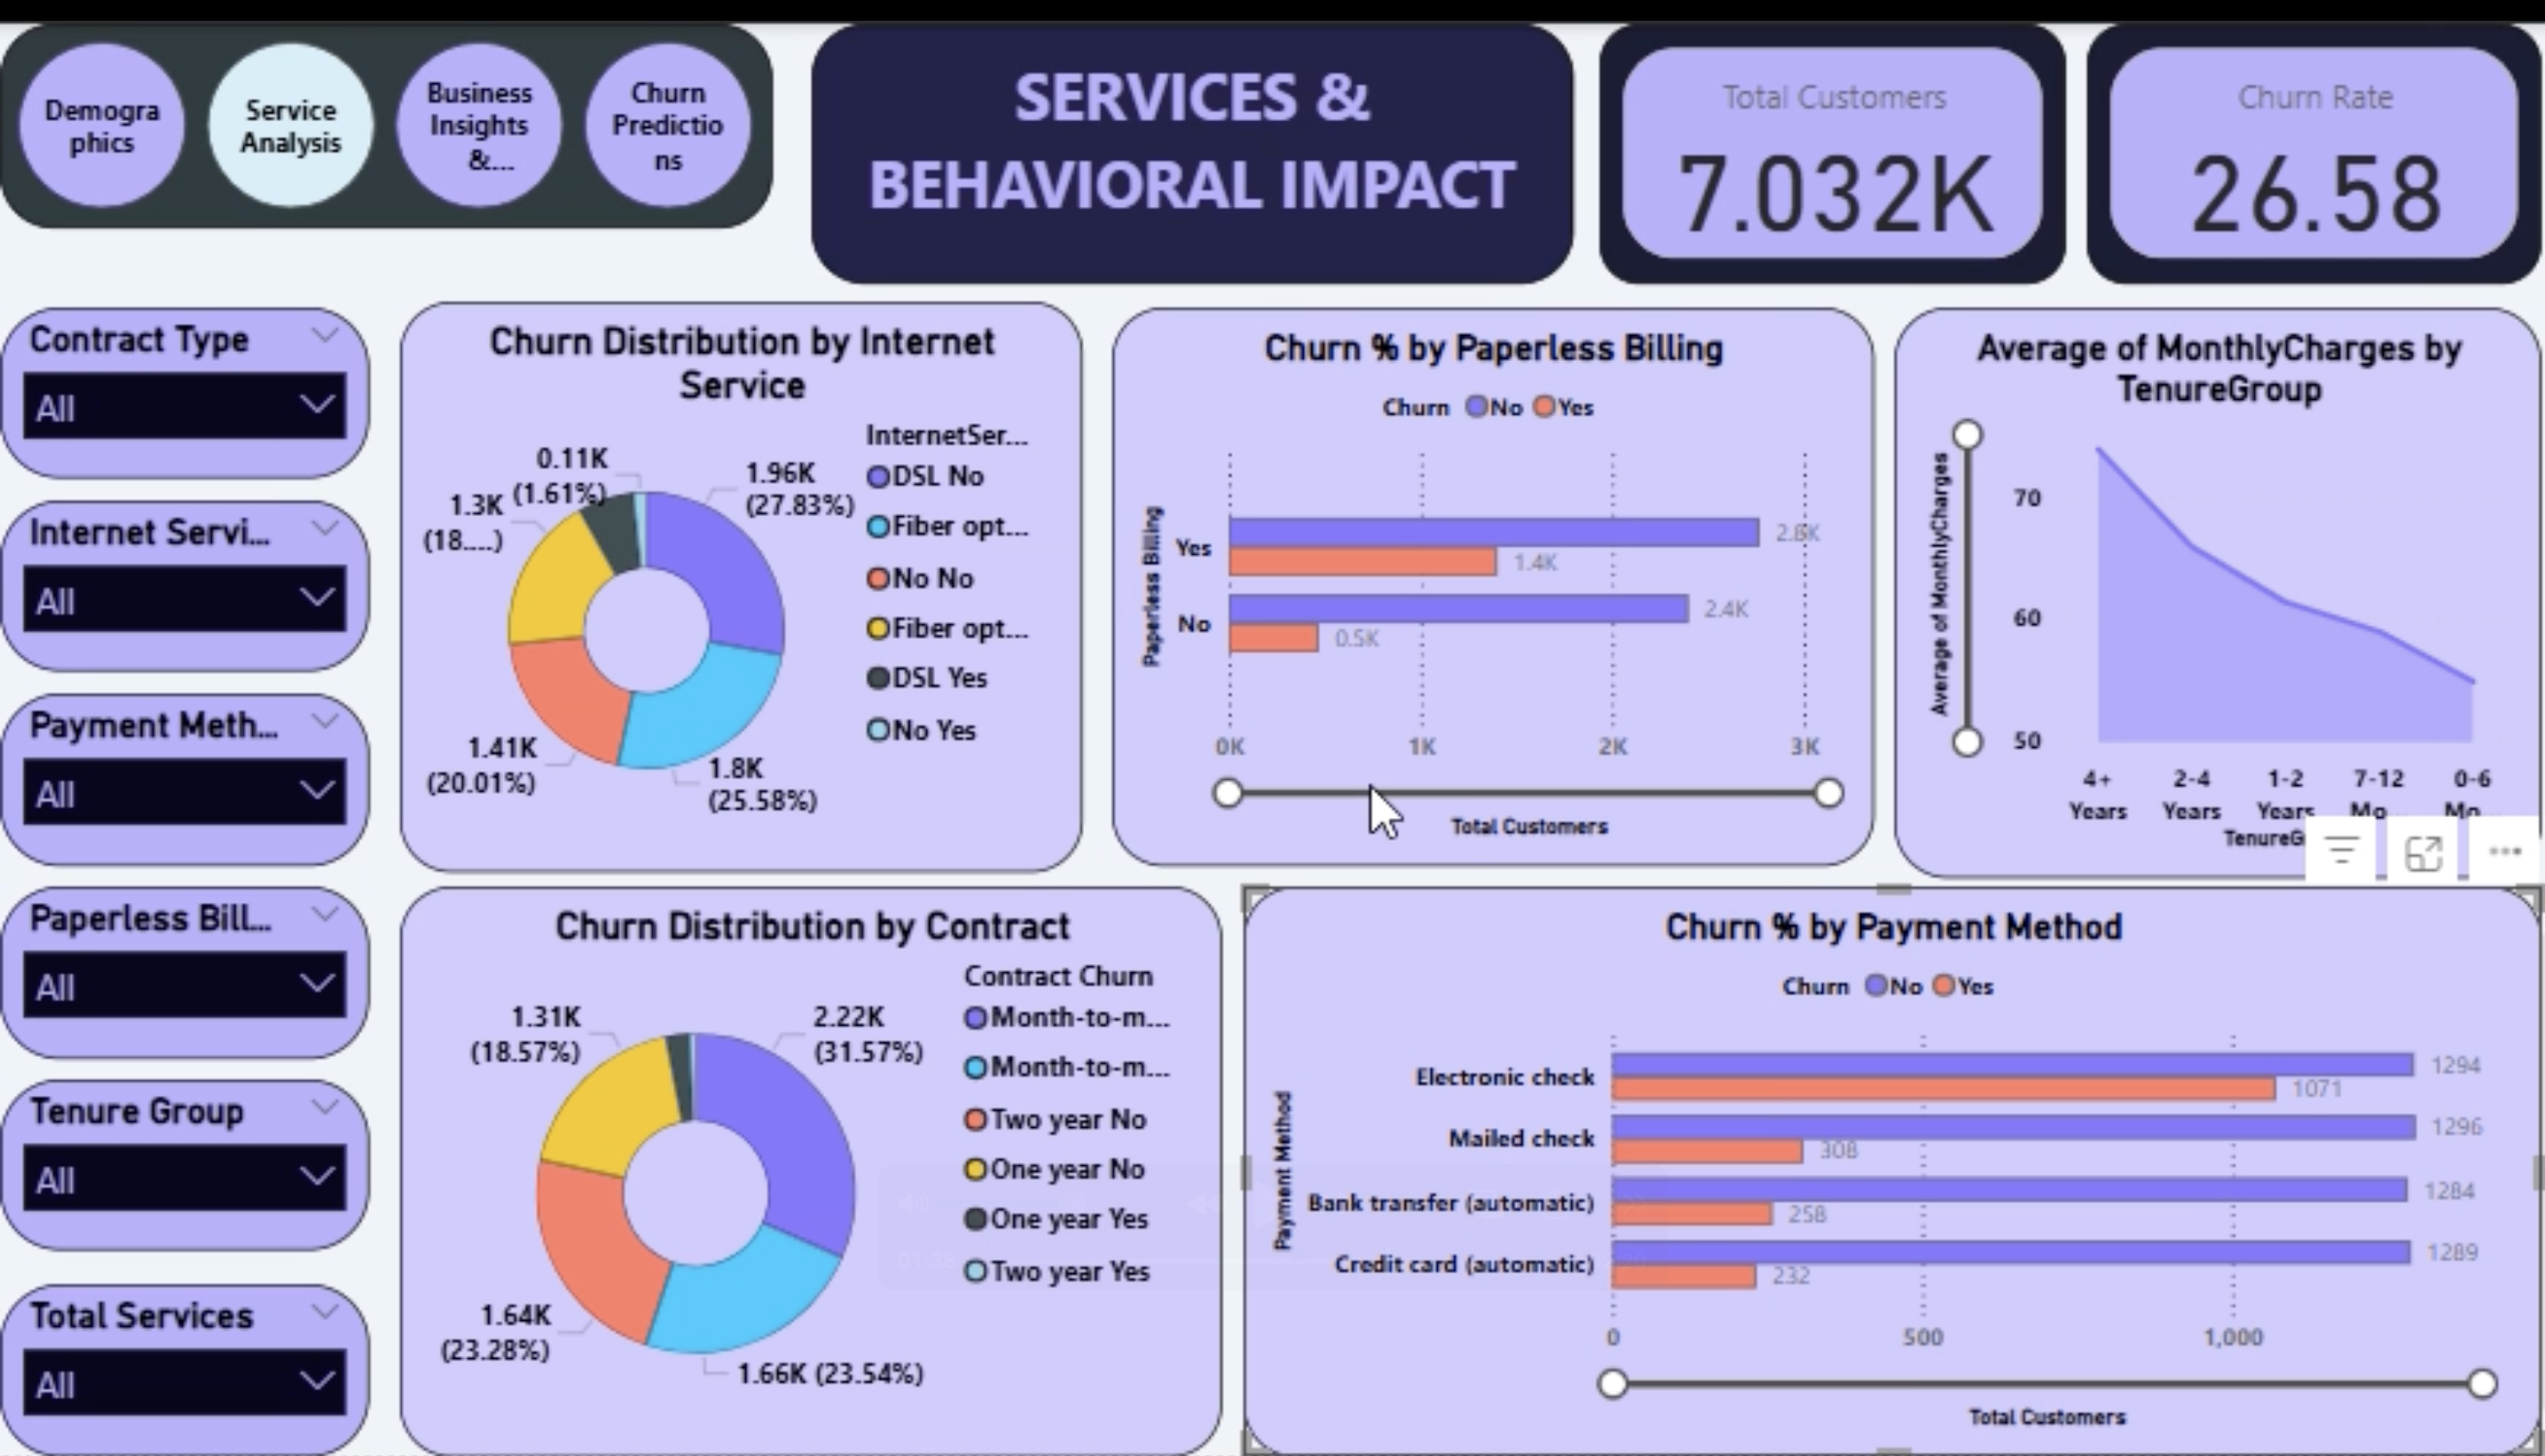

The dashboard page shown, as its layout file describes it:
{"tool":"powerbi","page":{"name":"Service Analysis","canvas":[1280,720],"ordinal":1},"visuals":[{"type":"slicer","fields":{"Values":["cleaned_telco_churn.PaperlessBilling"]},"box":[0,433.4,186.5,87.3],"z":0},{"type":"slicer","fields":{"Values":["cleaned_telco_churn.PaymentMethod"]},"box":[0,336,186.5,87.3],"z":1000},{"type":"slicer","fields":{"Values":["cleaned_telco_churn.TenureGroup"]},"box":[0,530.8,186.5,85.7],"z":2000},{"type":"slicer","fields":{"Values":["cleaned_telco_churn.TotalServices"]},"box":[0,633.3,186.5,87.3],"z":3000},{"type":"slicer","fields":{"Values":["cleaned_telco_churn.Contract"]},"box":[0,142.8,186.5,85.7],"z":4000},{"type":"slicer","fields":{"Values":["cleaned_telco_churn.InternetService"]},"box":[0,240.2,186.5,85.7],"z":5000},{"type":"textbox","box":[408.5,0,383.5,130.8],"z":6000},{"type":"cardVisual","fields":{"Data":["CountNonNull(cleaned_telco_churn.customerID)"]},"box":[805.2,0,235.1,130.8],"z":7000},{"type":"cardVisual","fields":{"Data":["cleaned_telco_churn.Churn Rate"]},"box":[1050.6,0,229.2,130.8],"z":8000},{"type":"donutChart","title":"Churn Distribution by Contract","fields":{"Category":["cleaned_telco_churn.Contract","cleaned_telco_churn.Churn"],"Y":["CountNonNull(cleaned_telco_churn.customerID)"]},"box":[201.3,433.5,414.4,286.5],"z":9000},{"type":"donutChart","title":"Churn Distribution by Internet Service","fields":{"Category":["cleaned_telco_churn.InternetService","cleaned_telco_churn.Churn"],"Y":["CountNonNull(cleaned_telco_churn.customerID)"]},"box":[201.3,139.6,343.8,286.5],"z":10000},{"type":"clusteredBarChart","title":"Churn % by Paperless Billing","fields":{"Y":["CountNonNull(cleaned_telco_churn.customerID)"],"Category":["cleaned_telco_churn.PaperlessBilling"],"Series":["cleaned_telco_churn.Churn"]},"box":[559.8,142.5,383.5,280.7],"z":11000},{"type":"clusteredBarChart","title":"Churn % by Payment Method","fields":{"Y":["CountNonNull(cleaned_telco_churn.customerID)"],"Category":["cleaned_telco_churn.PaymentMethod"],"Series":["cleaned_telco_churn.Churn"]},"box":[626,433.5,653.9,286.5],"z":12000},{"type":"areaChart","fields":{"Category":["cleaned_telco_churn.TenureGroup"],"Y":["Avg(cleaned_telco_churn.MonthlyCharges)"]},"box":[953.6,142.5,326.2,286.5],"z":13000},{"type":"pageNavigator","box":[0,0,389.4,102.9],"z":13001}]}

Visuals, with their boxes in screenshot pixels (x1, y1, x2, y2), scaled from the page's 1280x720 canvas onto the 2545x1456 screenshot:
slicer - cleaned_telco_churn.PaperlessBilling: region(0, 876, 370, 1053)
slicer - cleaned_telco_churn.PaymentMethod: region(0, 680, 370, 856)
slicer - cleaned_telco_churn.TenureGroup: region(0, 1073, 370, 1247)
slicer - cleaned_telco_churn.TotalServices: region(0, 1280, 370, 1455)
slicer - cleaned_telco_churn.Contract: region(0, 289, 370, 462)
slicer - cleaned_telco_churn.InternetService: region(0, 486, 370, 659)
textbox: region(812, 0, 1575, 265)
cardVisual - CountNonNull(cleaned_telco_churn.customerID): region(1601, 0, 2068, 265)
cardVisual - cleaned_telco_churn.Churn Rate: region(2089, 0, 2544, 265)
"Churn Distribution by Contract" donutChart: region(400, 877, 1224, 1455)
"Churn Distribution by Internet Service" donutChart: region(400, 282, 1084, 861)
"Churn % by Paperless Billing" clusteredBarChart: region(1113, 288, 1876, 856)
"Churn % by Payment Method" clusteredBarChart: region(1245, 877, 2544, 1455)
areaChart - cleaned_telco_churn.TenureGroup x Avg(cleaned_telco_churn.MonthlyCharges): region(1896, 288, 2544, 867)
pageNavigator: region(0, 0, 774, 208)
